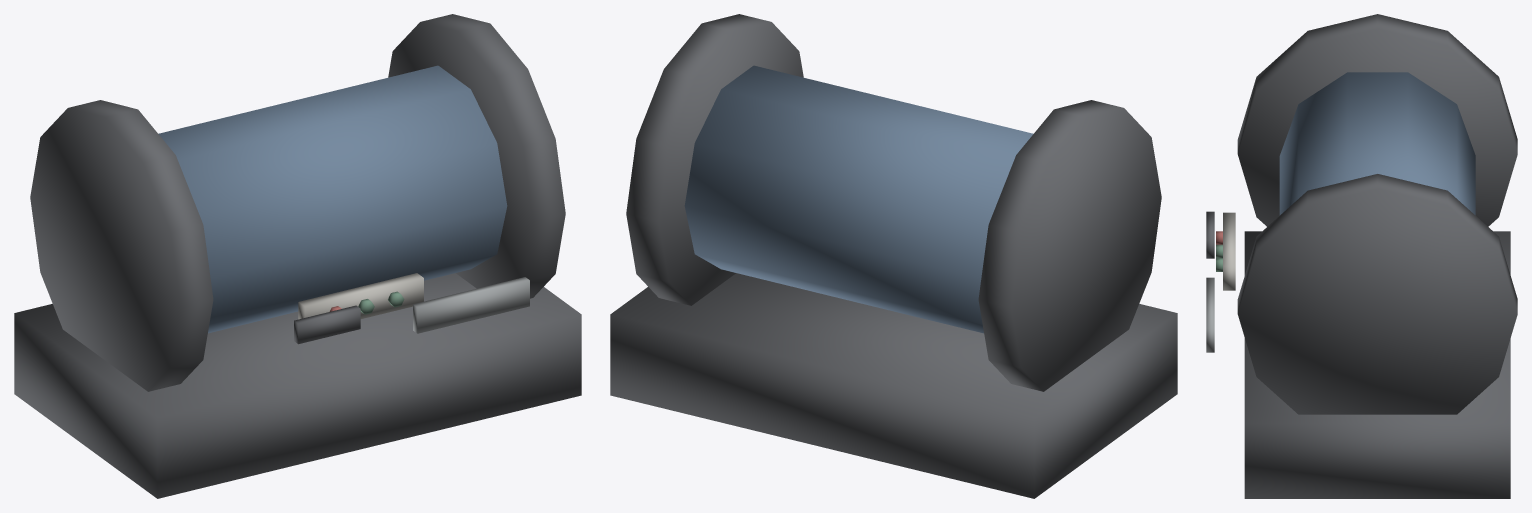
Rendered from bench_grinder__weathered.glb.
The picture shows the model from 3 angles, left to right: view 1: azimuth 30°, elevation 25°; view 2: azimuth 150°, elevation 25°; view 3: azimuth 270°, elevation 25°; orthographic projection. The views are drawn at different scales.
Visible parts, largest first — view 1: world; view 2: world; view 3: world.
Boxes of the visible parts, left/top/right/bottom form: world: left=14, top=14, right=581, bottom=498; world: left=610, top=14, right=1177, bottom=498; world: left=1206, top=14, right=1517, bottom=498.
Bounding box in the file's own units: 0.65 × 0.4752 × 0.445.
